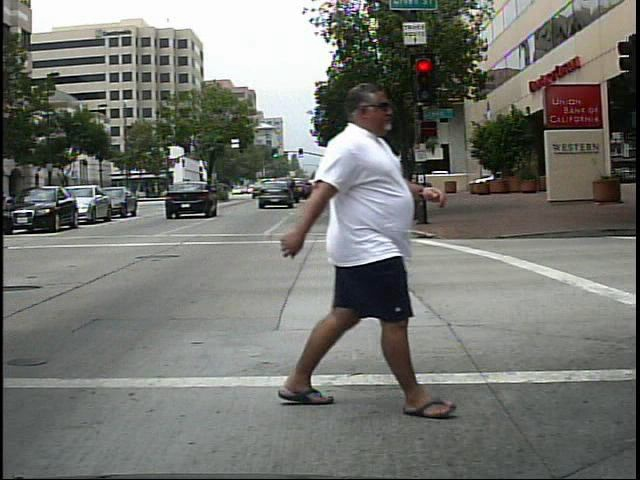person: (266, 75, 451, 421)
